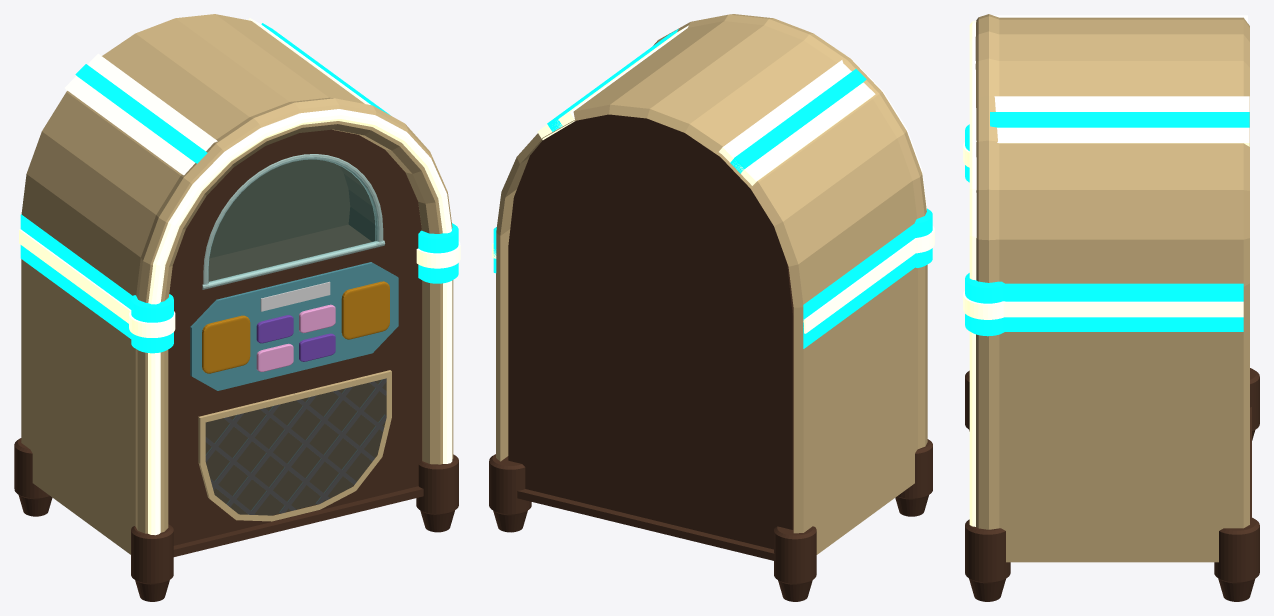
File: jukeboxFinal.fbx
The picture shows the model from 3 angles, left to right: view 1: azimuth 30°, elevation 25°; view 2: azimuth 150°, elevation 25°; view 3: azimuth 270°, elevation 25°; orthographic projection. The views are drawn at different scales.
Parts seen in each view (by area): view 1: Torus.001, Cube, Cylinder.004, Torus.002, Cube.015, Cylinder, Cube.002, Cube.029, Cube.032, Cube.026, Cube.018, Cube.017 (+13 smaller); view 2: Cube, Torus.001, Cylinder, Cube.029, Cube.026, Cube.030, Cube.025, Cube.028, Cube.027, Cylinder.001; view 3: Torus.001, Cube.028, Cube.023, Cylinder, Cube.027, Cube.024, Torus.002, Cylinder.002, Cube.029, Cylinder.005.
Boxes of the visible parts, x1,y1,x2,y2 form: Torus.001: (21,14,453,554); Cube: (168,129,423,556); Cylinder.004: (209,159,376,281); Torus.002: (148,109,452,535); Cube.015: (190,262,398,390); Cylinder: (14,438,458,601); Cube.002: (205,378,386,514); Cube.029: (65,53,217,175); Cube.032: (198,370,391,521); Cube.026: (20,214,132,338); Cube.018: (341,281,389,339); Cube.017: (202,315,250,373); Cube: (508,114,793,560); Torus.001: (496,14,927,554); Cylinder: (489,439,932,601); Cube.029: (719,60,875,185); Cube.026: (803,223,915,348); Cube.030: (730,69,866,173); Cube.025: (803,238,917,333); Cube.028: (537,25,688,139); Cube.027: (547,29,678,131); Cylinder.001: (915,208,932,267); Torus.001: (975,14,1249,562); Cube.028: (994,96,1249,146); Cube.023: (1002,283,1243,331); Cylinder: (965,368,1259,601); Cube.027: (990,112,1249,127); Cube.024: (1003,301,1243,317); Torus.002: (969,20,976,526); Cylinder.002: (965,273,1004,336); Cube.029: (993,15,1247,22); Cylinder.005: (963,291,1005,319).
Bounding box in the file's own units: 2.28 × 3.08 × 1.69.
